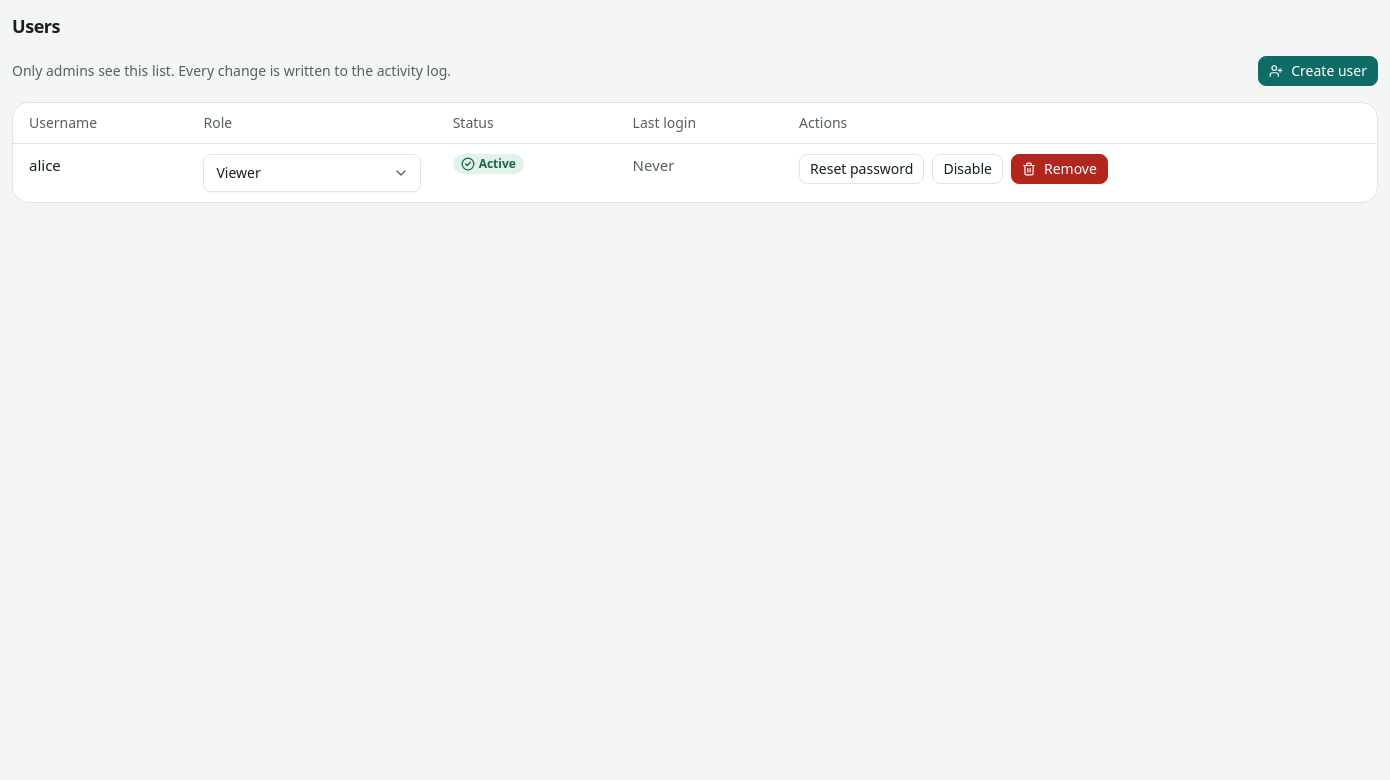
Scenario: UsersAdmin actions › changes a role from the select and confirms with a toast
The width and height of the screenshot is (1390, 780).
Expected: the table named "Users" is shown, [13, 103, 1377, 202]
Select "Operator" in the dropdown named "Role for alice" at coordinates (312, 173), box [204, 154, 421, 192]
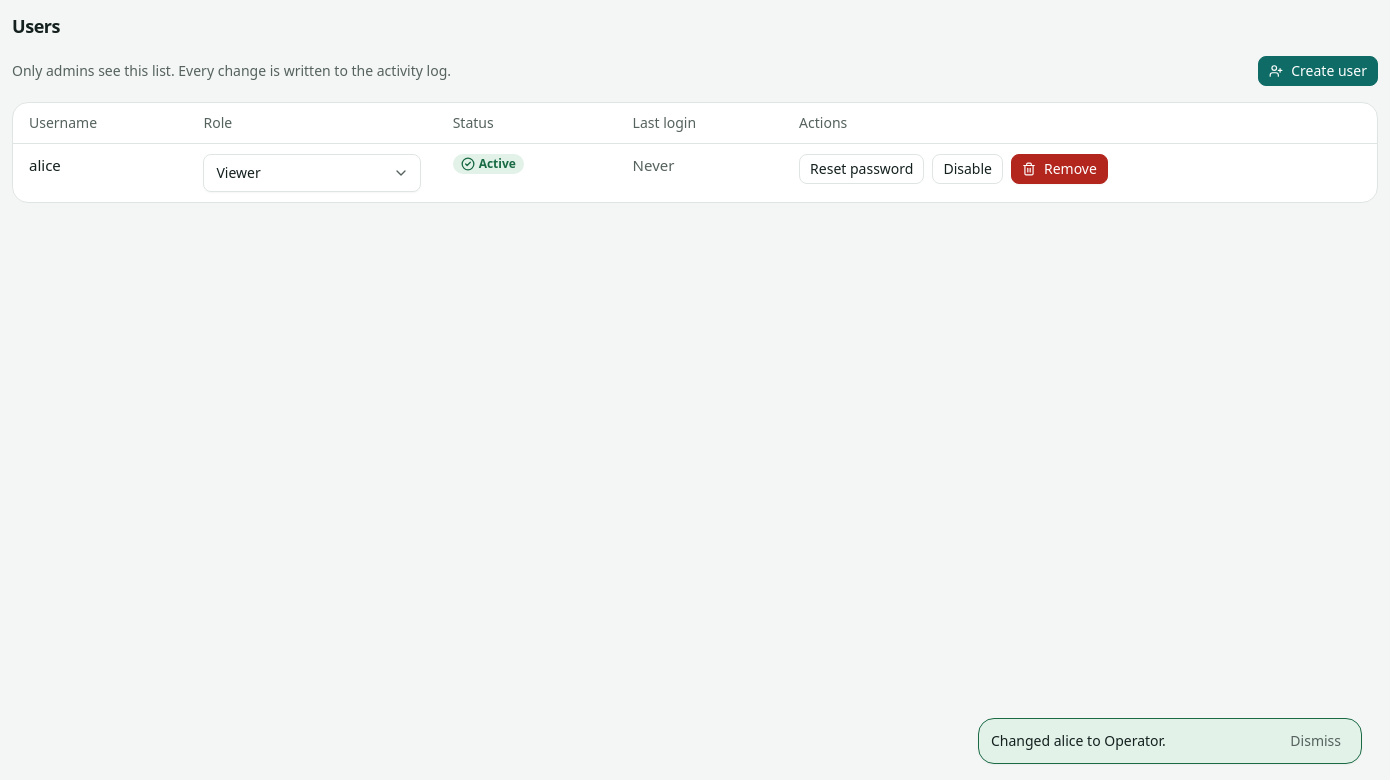
Expected: the text "Changed alice to Operator." is shown, [991, 731, 1166, 751]
